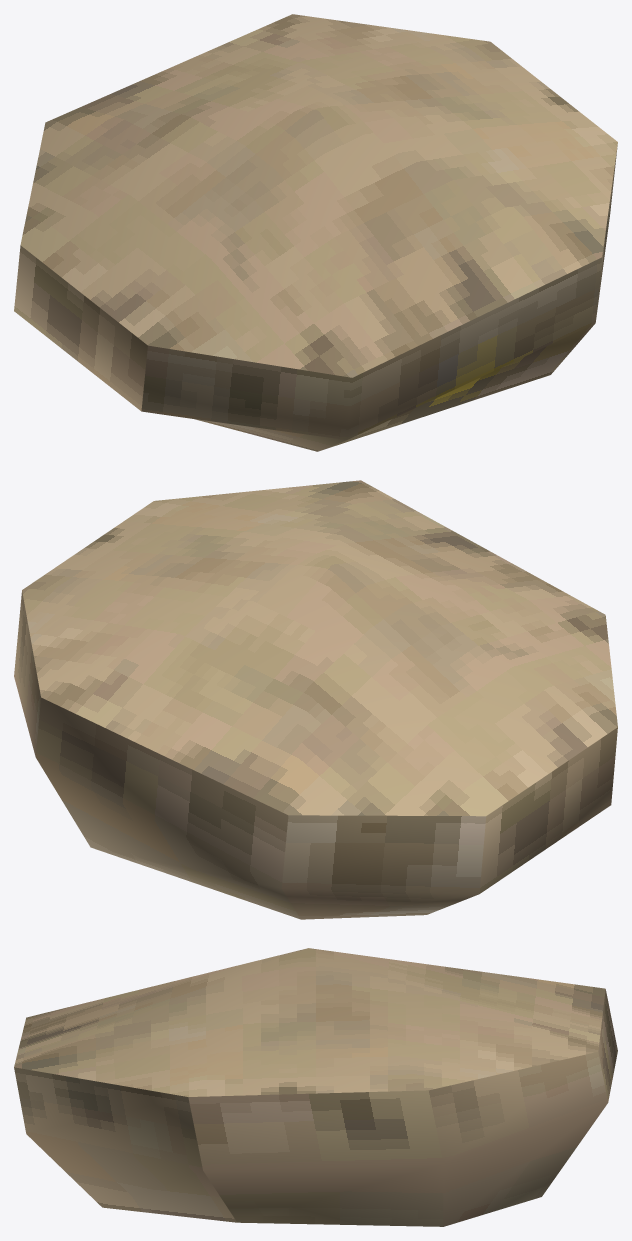
The model's file is IR_Beret_Sandy.glb.
3 views of the same model, one above another, from view 1: azimuth 30°, elevation 25°; view 2: azimuth 150°, elevation 25°; view 3: azimuth 270°, elevation 25° (orthographic). The views are drawn at different scales.
Parts seen in each view (by area): view 1: IR_BERET_SANDY; view 2: IR_BERET_SANDY; view 3: IR_BERET_SANDY.
Part boxes in pixels (x1=…): IR_BERET_SANDY: x1=14, y1=14, x2=617, y2=451; IR_BERET_SANDY: x1=14, y1=480, x2=617, y2=919; IR_BERET_SANDY: x1=14, y1=948, x2=617, y2=1226.
Bounding box in the file's own units: 0.204 × 0.104 × 0.246.
Materials: 1 (1 with a texture image).
